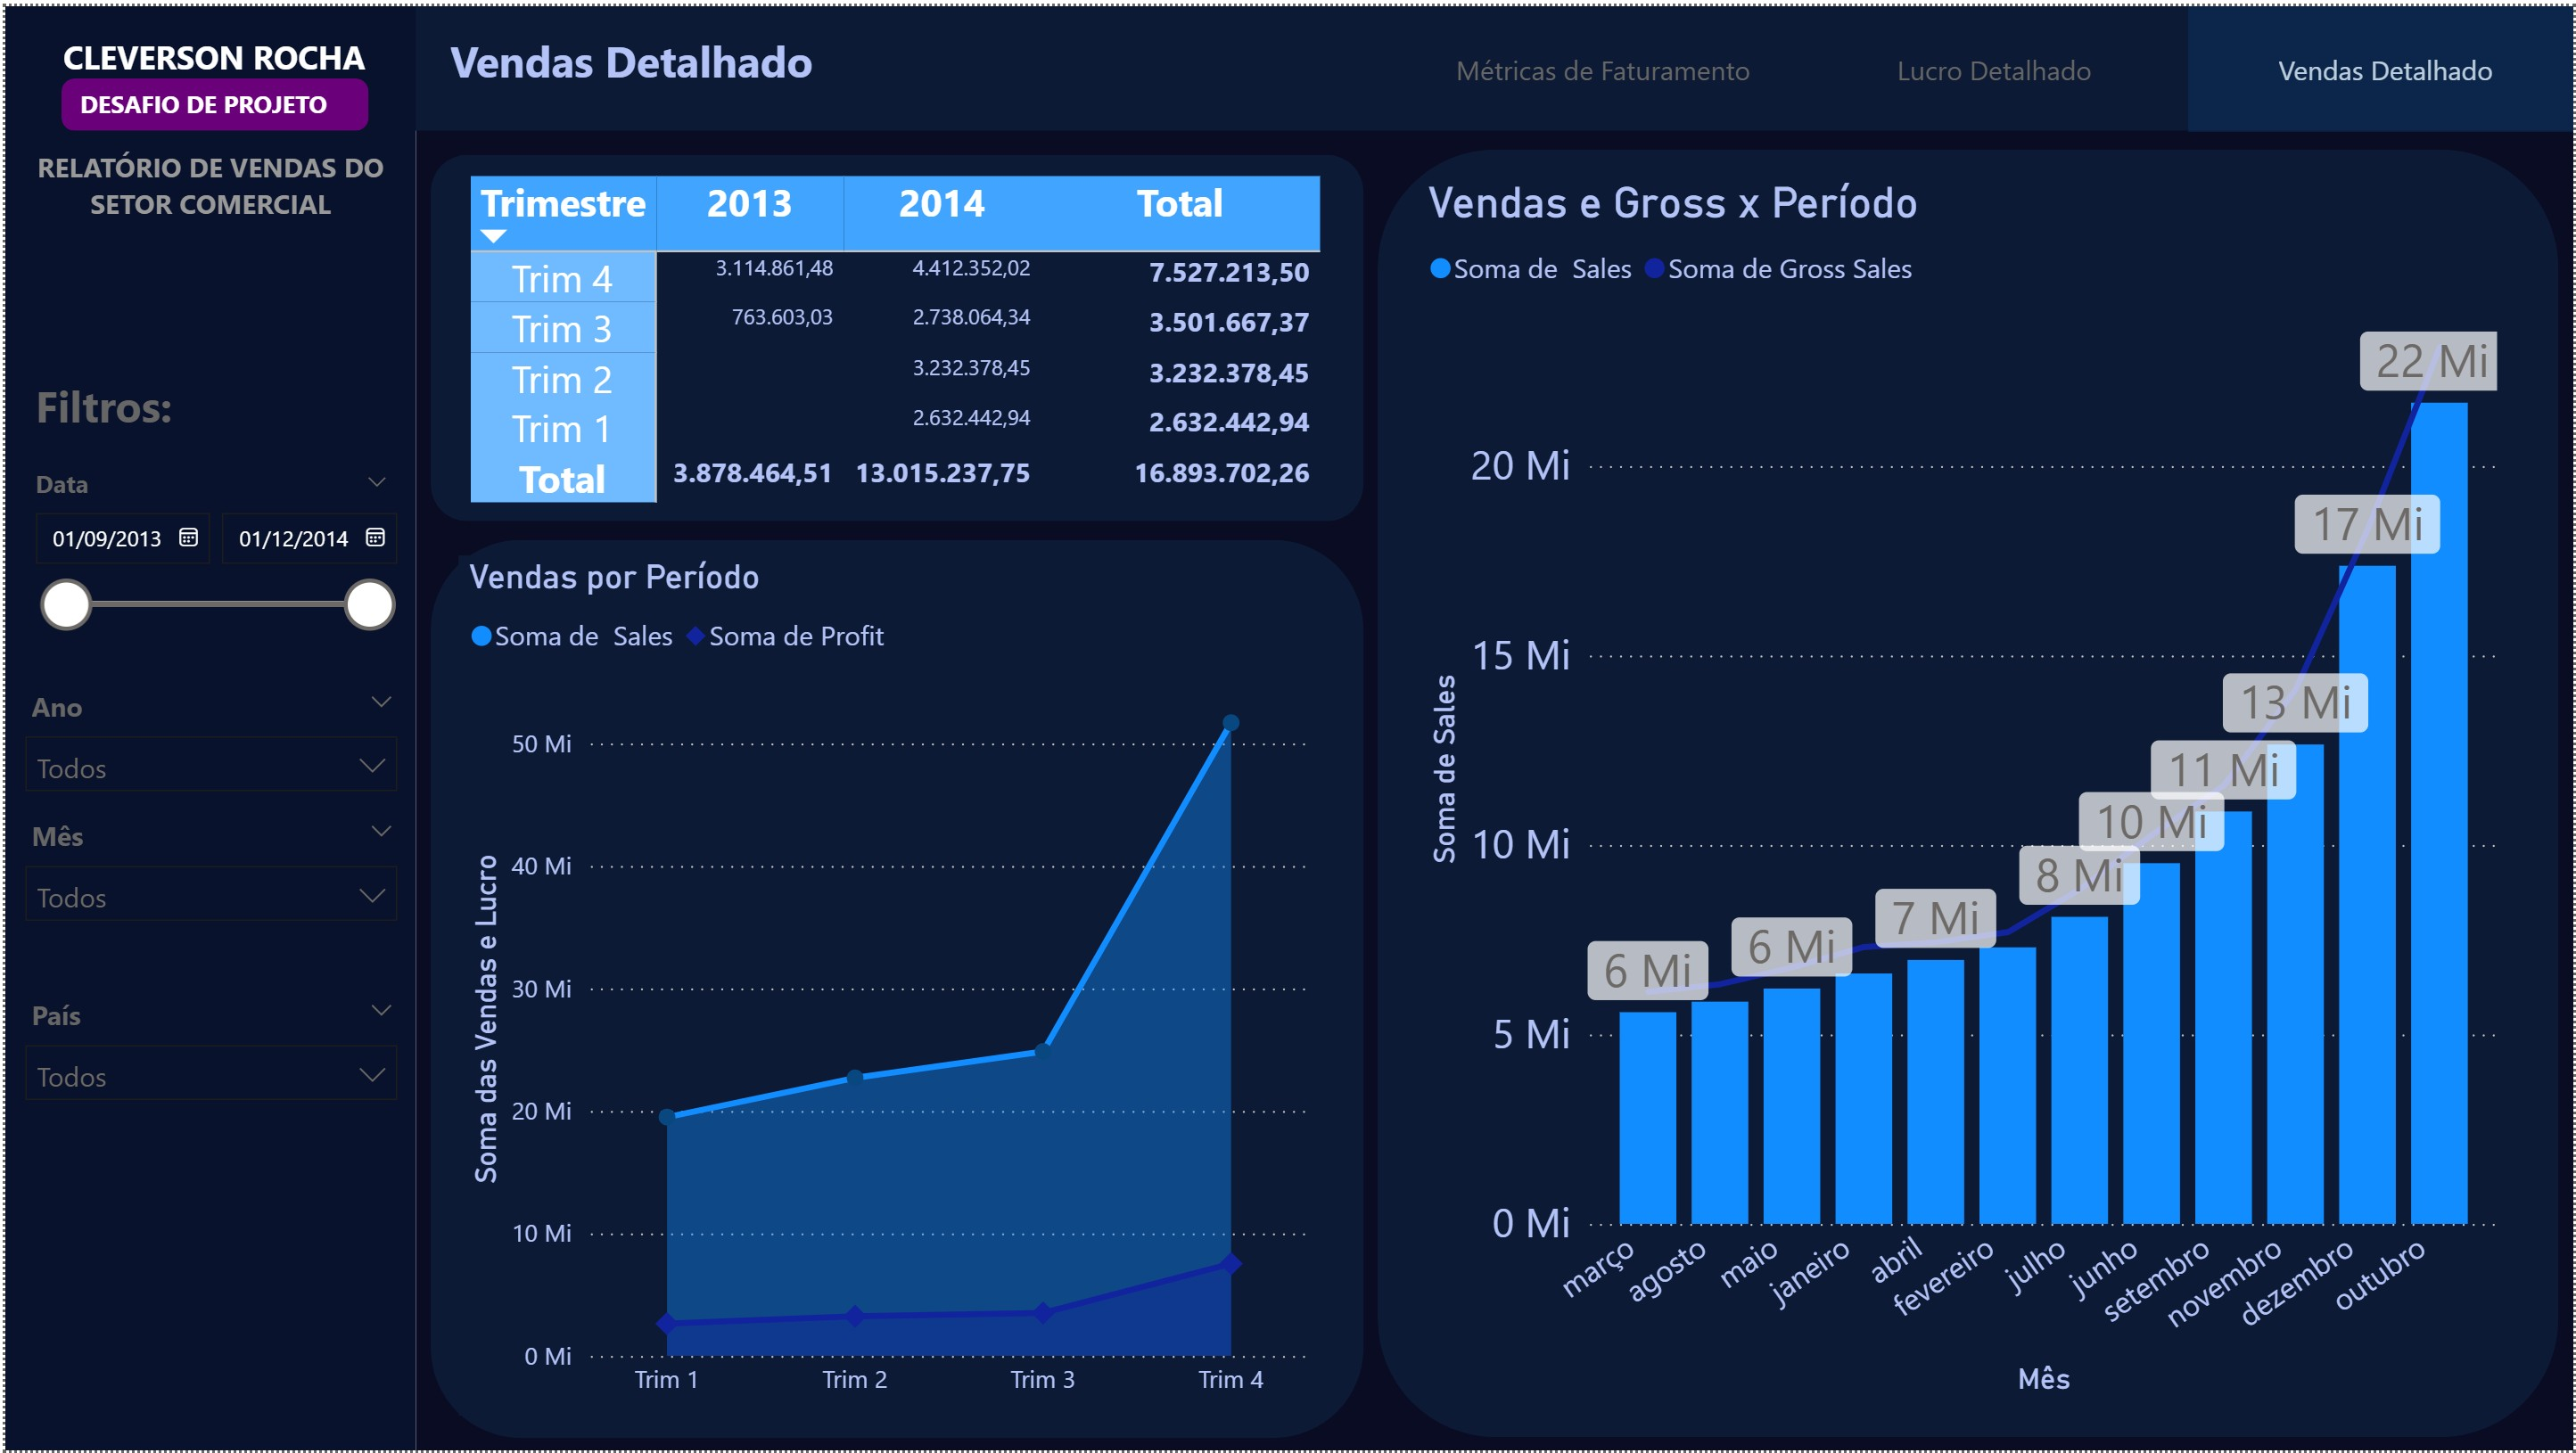

Layout of this report page (visuals, bound fields, positions):
{"tool":"powerbi","page":{"name":"Vendas Detalhado","canvas":[1280,720],"ordinal":2},"visuals":[{"type":"group","id":"g1","title":"Grupo 1","box":[0,0,1280,720],"z":0},{"type":"pageNavigator","box":[717.9,35,562.1,62.1],"z":0,"group":"g1"},{"type":"shape","box":[1087.7,0,192.3,62.3],"z":1000,"group":"g1"},{"type":"areaChart","title":"Vendas por Período","fields":{"Category":["financials.Date.Variation.Hierarquia de datas.Trimestre","financials.Date.Variation.Hierarquia de datas.Mês"],"Y":["Sum(financials. Sales)","Sum(financials.Profit)"]},"box":[225.7,274.3,427.1,428.6],"z":1000},{"type":"shape","box":[896.9,0,192.3,62.3],"z":2000,"group":"g1"},{"type":"pivotTable","fields":{"Columns":["financials.Date.Variation.Hierarquia de datas.Ano"],"Rows":["financials.Date.Variation.Hierarquia de datas.Trimestre"],"Values":["Sum(financials.Profit)"]},"box":[226.4,79.3,446.4,177.1],"z":2000},{"type":"shape","box":[1087.9,0,192.1,62.9],"z":3000},{"type":"shape","box":[204.6,59.2,1075.4,660.8],"z":3000,"group":"g1"},{"type":"shape","box":[0,0,1280,62.1],"z":4000,"group":"g1"},{"type":"lineClusteredColumnComboChart","title":"Vendas e Gross x Período","fields":{"Category":["financials.Date.Variation.Hierarquia de datas.Mês"],"Y":["Sum(financials. Sales)"],"Y2":["Sum(financials.Gross Sales)"]},"box":[704.3,85,542.9,611.4],"z":4000},{"type":"shape","box":[0,0,204.6,720],"z":5000,"group":"g1"},{"type":"slicer","fields":{"Values":["financials.Date"]},"box":[2.3,224.6,200.8,97.7],"z":6000,"group":"g1"},{"type":"shape","box":[684.3,71.4,588.6,642.1],"z":7000,"group":"g1"},{"type":"textbox","box":[5.4,8.5,197.7,40.8],"z":8000,"group":"g1"},{"type":"shape","box":[27.7,36.2,153.1,26.2],"z":9000,"group":"g1"},{"type":"textbox","box":[0,33.1,197.7,29.2],"z":10000,"group":"g1"},{"type":"textbox","box":[0,65.4,204.6,52.3],"z":11000,"group":"g1"},{"type":"textbox","box":[10,178.8,193.1,40],"z":12000,"group":"g1"},{"type":"slicer","fields":{"Values":["financials.Date.Variation.Hierarquia de datas.Ano"]},"box":[0,333.8,205.4,63.8],"z":13000,"group":"g1"},{"type":"slicer","fields":{"Values":["financials.Date.Variation.Hierarquia de datas.Mês"]},"box":[0,398.5,205.4,63.8],"z":14000,"group":"g1"},{"type":"slicer","fields":{"Values":["financials.Country"]},"box":[0,487.7,205.4,63.8],"z":15000,"group":"g1"},{"type":"textbox","box":[216.9,6.9,321.5,44.6],"z":16000,"group":"g1"},{"type":"pageNavigator","box":[704.3,0,575.7,62.1],"z":17000,"group":"g1"},{"type":"shape","box":[212.1,265.7,465,447.9],"z":20000,"group":"g1"},{"type":"shape","box":[212.1,74.3,465,182.9],"z":21000,"group":"g1"}]}

Visuals, with their boxes in screenshot pixels (x1, y1, x2, y2), scaled from the page's 1280x720 canvas onto the 2576x1453 screenshot:
"Grupo 1" group: l=0, t=0, r=2575, b=1452
pageNavigator: l=1444, t=70, r=2575, b=196
shape: l=2189, t=0, r=2575, b=126
"Vendas por Período" areaChart: l=454, t=554, r=1313, b=1418
shape: l=1805, t=0, r=2192, b=126
pivotTable - financials.Date.Variation.Hierarquia de datas.Ano x financials.Date.Variation.Hierarquia de datas.Trimestre: l=456, t=160, r=1354, b=517
shape: l=2189, t=0, r=2575, b=127
shape: l=412, t=119, r=2575, b=1452
shape: l=0, t=0, r=2575, b=126
"Vendas e Gross x Período" lineClusteredColumnComboChart: l=1418, t=171, r=2510, b=1406
shape: l=0, t=0, r=412, b=1452
slicer - financials.Date: l=4, t=453, r=408, b=651
shape: l=1377, t=144, r=2562, b=1440
textbox: l=11, t=17, r=408, b=100
shape: l=56, t=73, r=364, b=126
textbox: l=0, t=67, r=398, b=126
textbox: l=0, t=132, r=412, b=237
textbox: l=21, t=361, r=408, b=441
slicer - financials.Date.Variation.Hierarquia de datas.Ano: l=0, t=674, r=414, b=802
slicer - financials.Date.Variation.Hierarquia de datas.Mês: l=0, t=804, r=414, b=933
slicer - financials.Country: l=0, t=984, r=414, b=1113
textbox: l=437, t=14, r=1083, b=104
pageNavigator: l=1418, t=0, r=2575, b=126
shape: l=427, t=537, r=1362, b=1441
shape: l=427, t=150, r=1362, b=519
